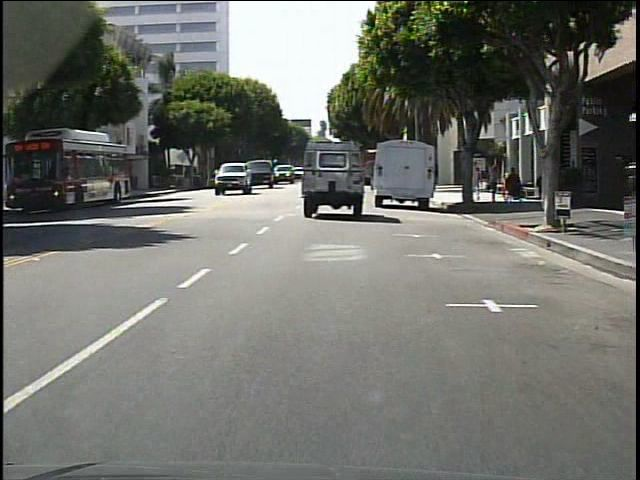person: (469, 159, 483, 203), (488, 165, 502, 203)
